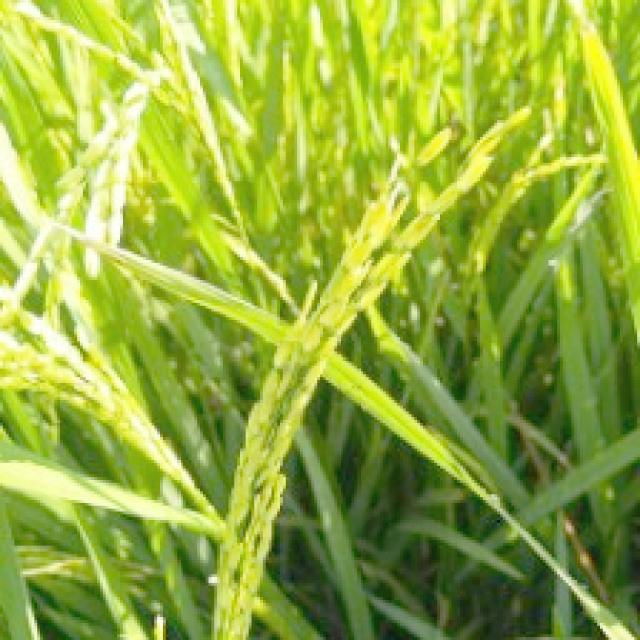health: (0, 0, 167, 223)
